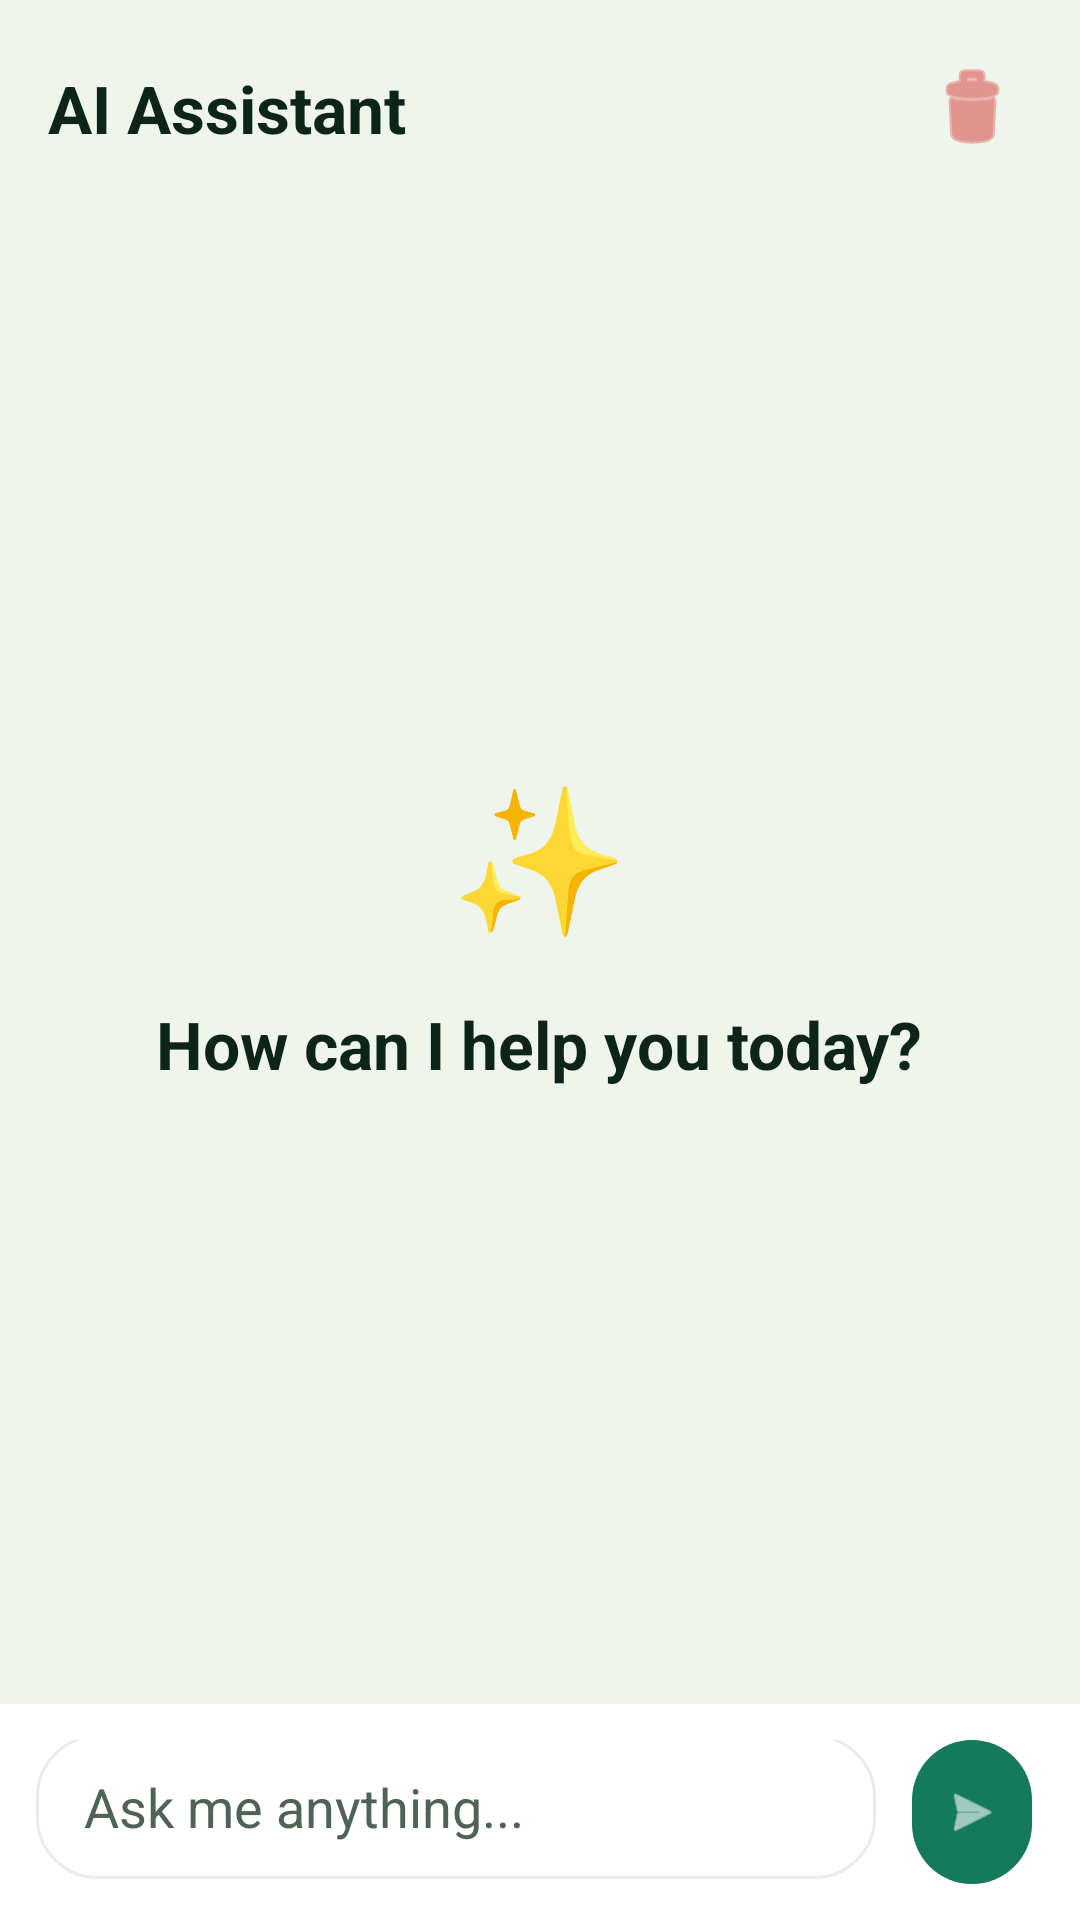

Icons on this 1080px x 1920px Android screen, each with its box as (x1, y1, x2, y2):
send: (912, 1740, 1032, 1884)
